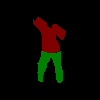jeans: (37, 50, 63, 83)
maglia: (33, 16, 66, 53)
